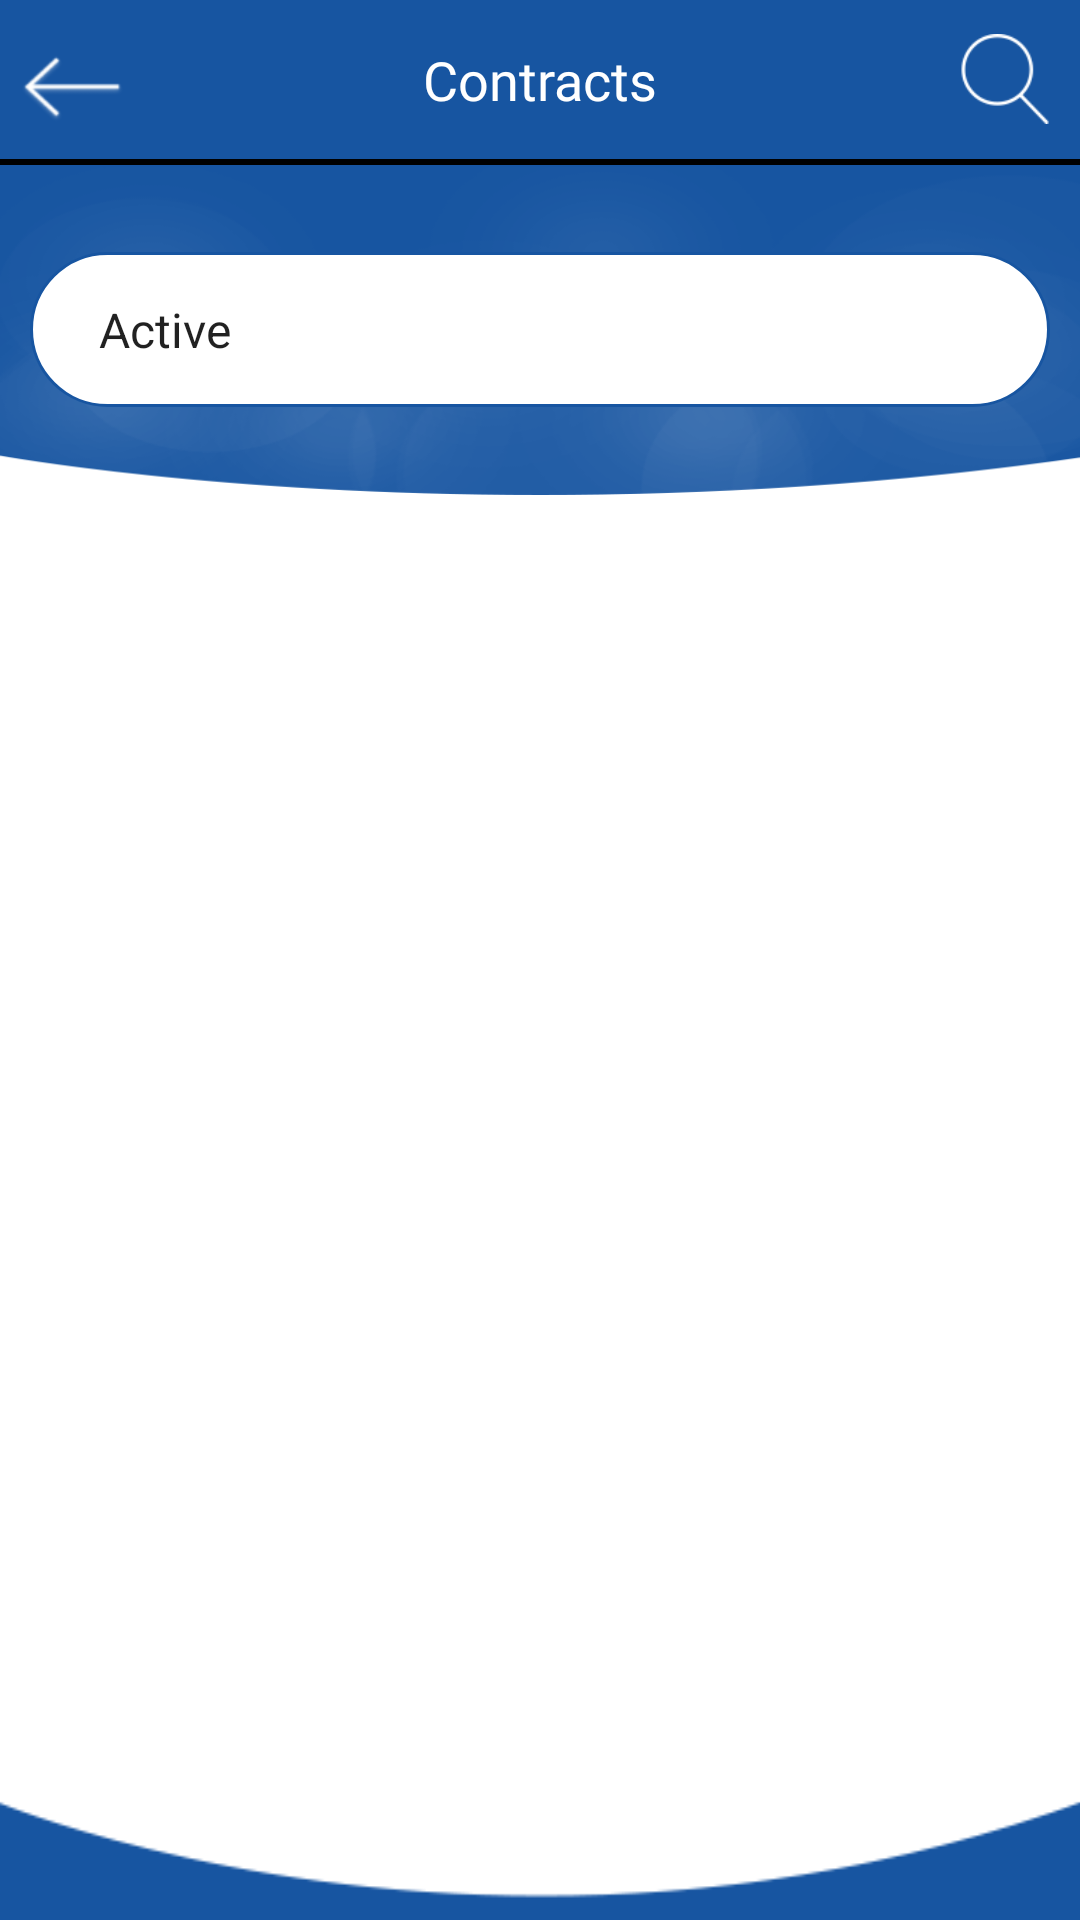

Named icons in this screenshot (1080×1920) and their centers, [x,y]:
back: [72,87]
search: [1005,79]
